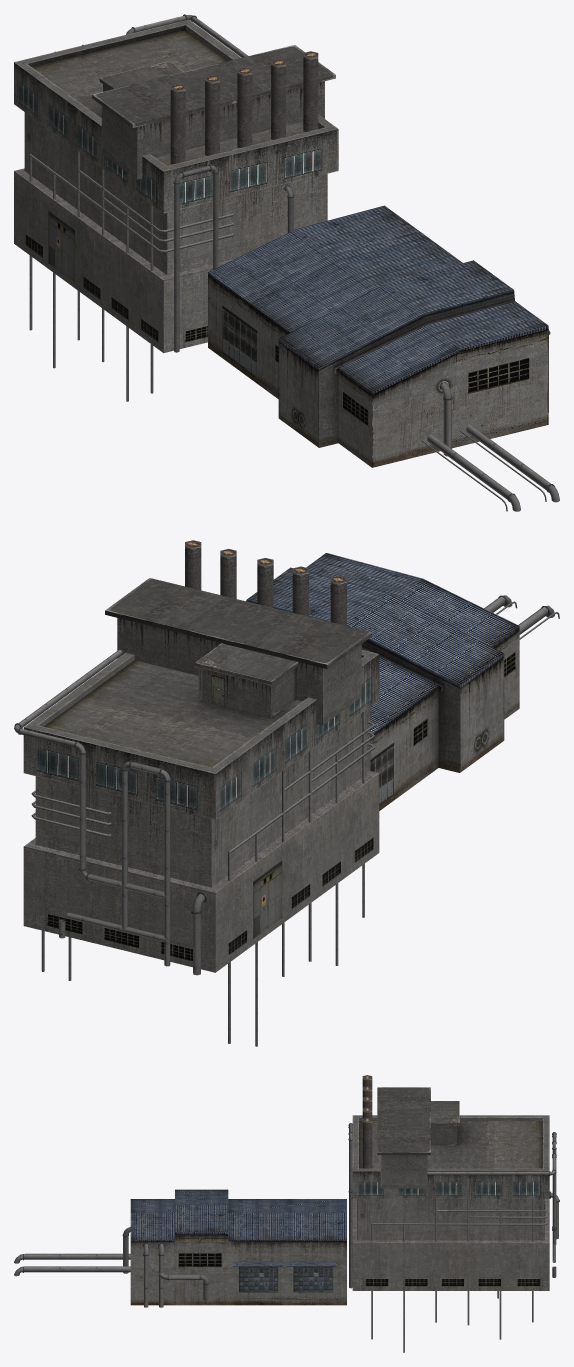
Rendered from factory_01.FBX.
3 renders of one model, top to bottom at view 1: azimuth 30°, elevation 25°; view 2: azimuth 150°, elevation 25°; view 3: azimuth 270°, elevation 25°, orthographic. The views are drawn at different scales.
Visible parts, largest first — view 1: Object41246, Object41245; view 2: Object41246, Object41245; view 3: Object41246, Object41245.
Part boxes in pixels (box(x1,y1,x2,y2)): Object41246: box(14, 19, 548, 467); Object41245: box(29, 14, 559, 511); Object41246: box(23, 540, 519, 972); Object41245: box(14, 595, 559, 1046); Object41246: box(130, 1075, 549, 1305); Object41245: box(14, 1123, 559, 1352).
Bounding box in the file's own units: 1845 × 5274 × 2438.
